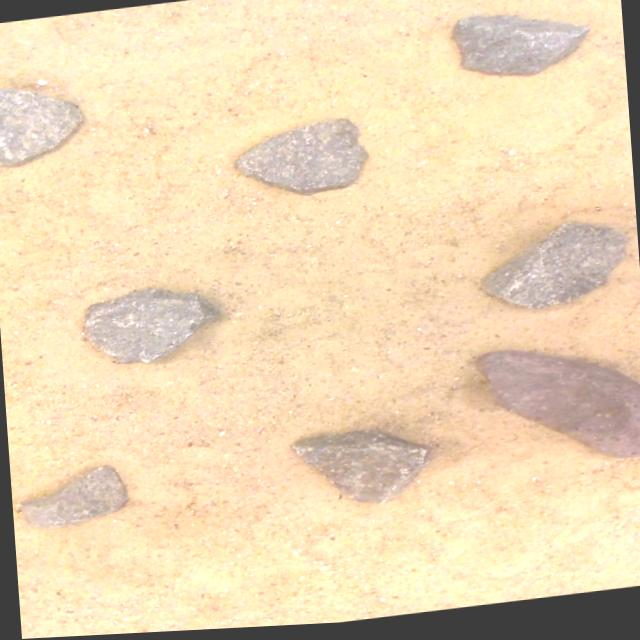rock: (475, 355, 640, 464), (482, 228, 624, 313), (234, 121, 366, 197), (291, 433, 427, 506), (84, 290, 216, 363), (452, 20, 588, 80), (21, 466, 126, 528), (0, 87, 81, 165)
